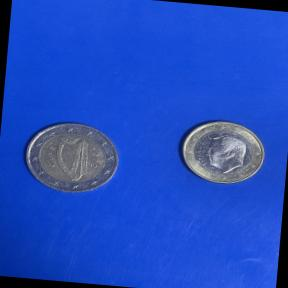1 Euro-B: (170, 114, 273, 193)
2 Euro-B: (12, 114, 128, 202)
